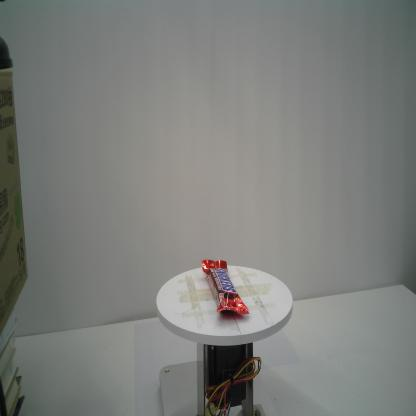Chocolate: (200, 258, 250, 317)
